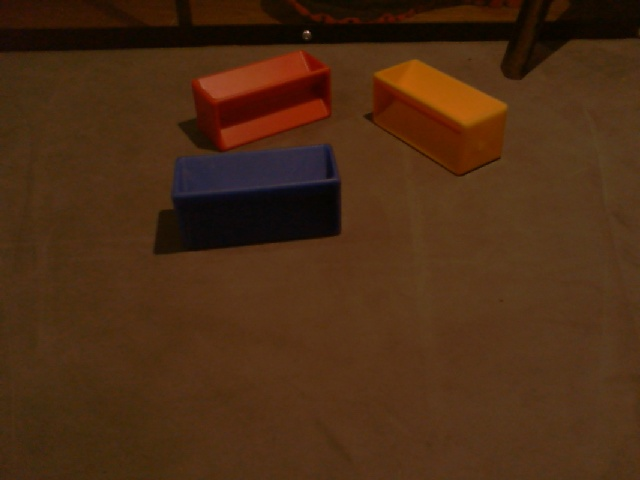BlueSample: (169, 141, 344, 242)
RedSample: (189, 47, 336, 152)
YellowSample: (370, 54, 510, 179)
